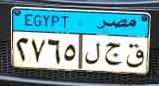2: (15, 36, 30, 63)
5: (63, 43, 76, 63)
6: (47, 38, 61, 65)
7: (31, 38, 45, 63)
jeem: (103, 41, 123, 67)
laam: (84, 40, 101, 67)
qaaf: (125, 40, 144, 69)
